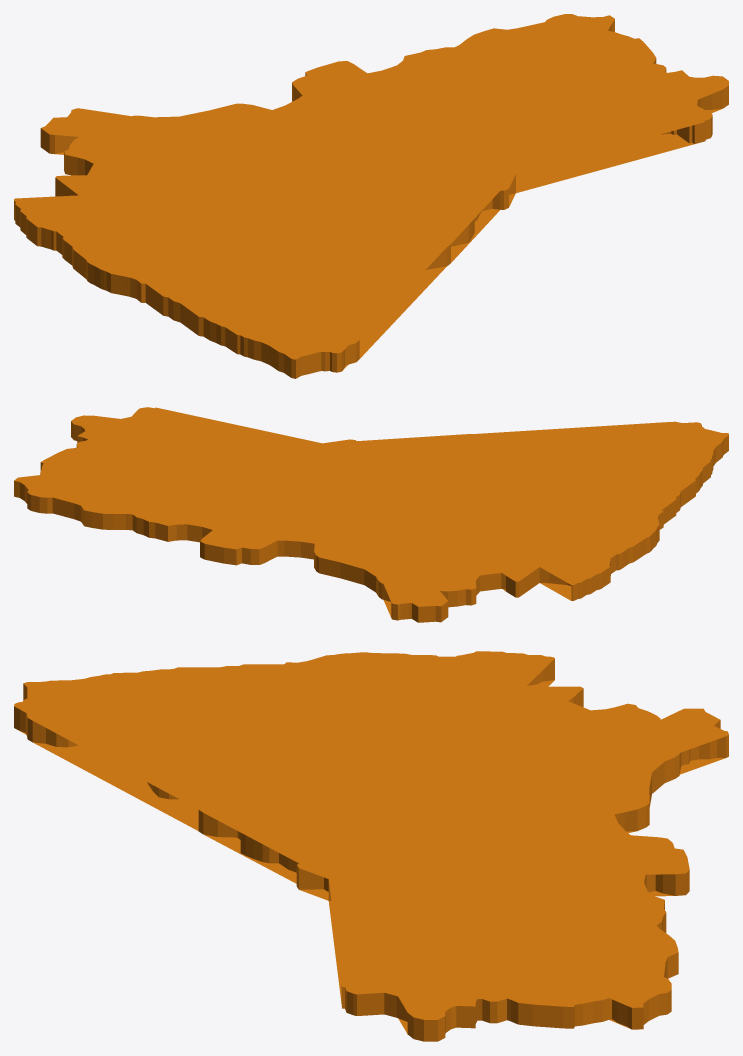
Rendered from maharashtra.fbx.
3 views of the same model, one above another, from view 1: azimuth 30°, elevation 25°; view 2: azimuth 150°, elevation 25°; view 3: azimuth 270°, elevation 25° (orthographic). The views are drawn at different scales.
Visible parts, largest first — view 1: Maharashtra; view 2: Maharashtra; view 3: Maharashtra.
Part boxes in pixels (left/top/right/bottom): Maharashtra: left=14, top=14, right=728, bottom=378; Maharashtra: left=14, top=407, right=728, bottom=622; Maharashtra: left=14, top=651, right=728, bottom=1041.
Bounding box in the file's own units: 124 × 3.41 × 102.
